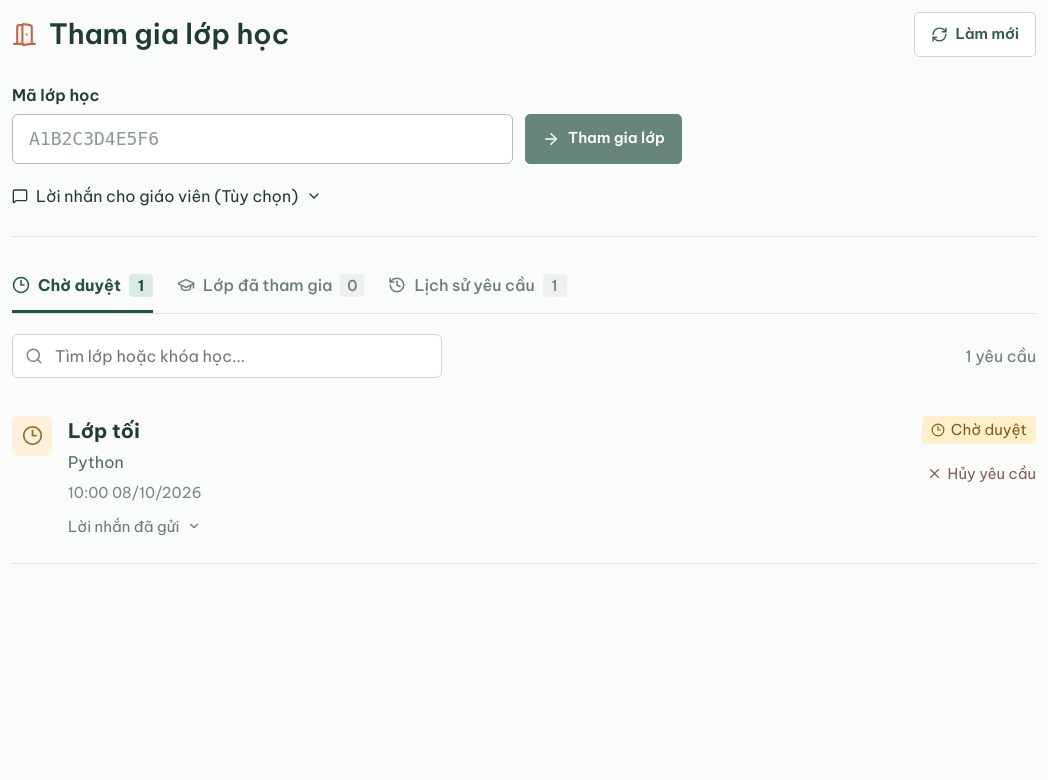
Test: enrollment workflows › joins a class and refreshes courses: PENDING
Expected: the button "Tham gia lớp" is disabled, [525,114,682,164]
Type "a1b2c3d4e5f6" into the field labelled "Mã lớp học".
click(262, 138); type("a1b2c3d4e5f6")  # box [12,114,513,164]
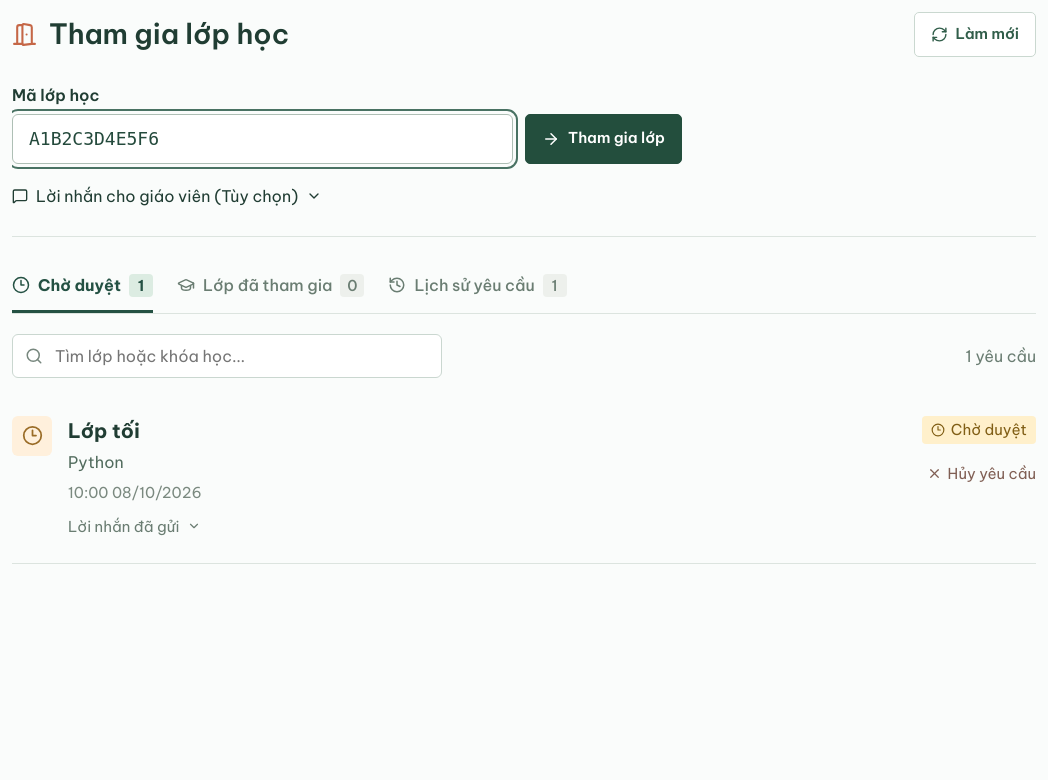
Click the button "Tham gia lớp".
click(604, 138)  # box [525,114,682,164]
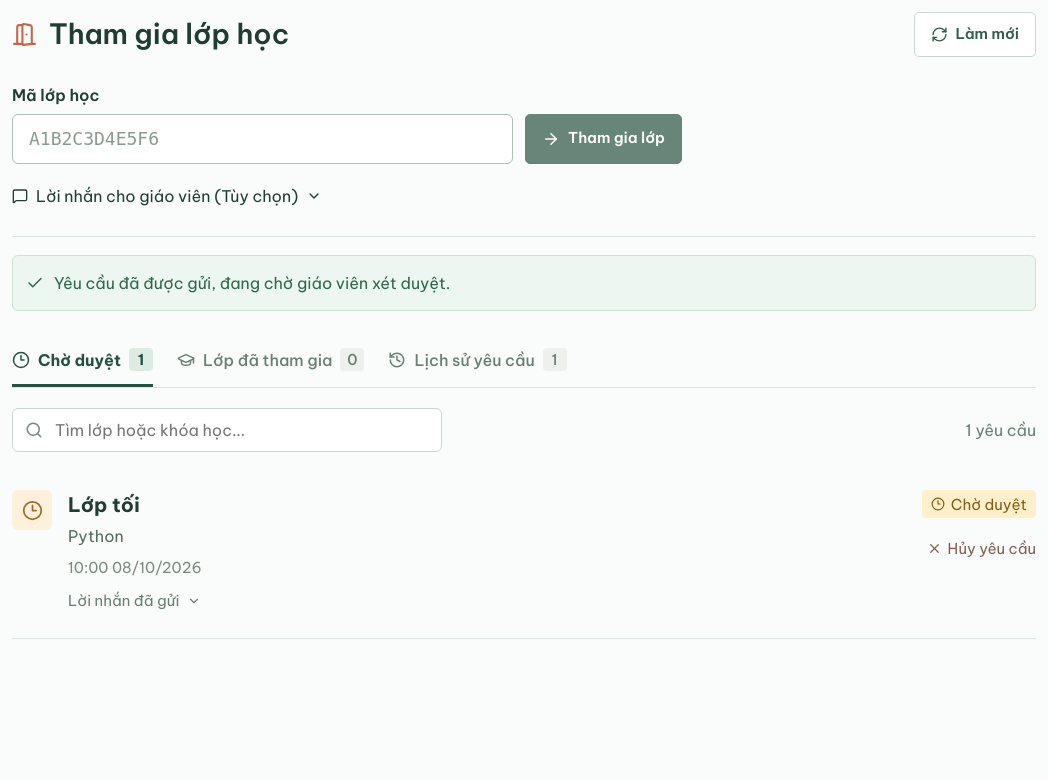
Now the message shows "đang chờ", box [54,272,450,292]
